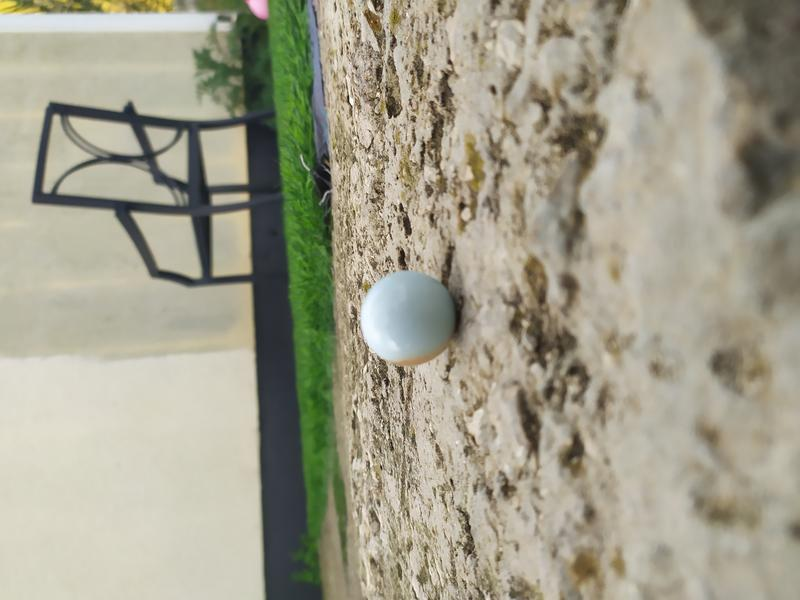Warning: (357, 268, 459, 369)
